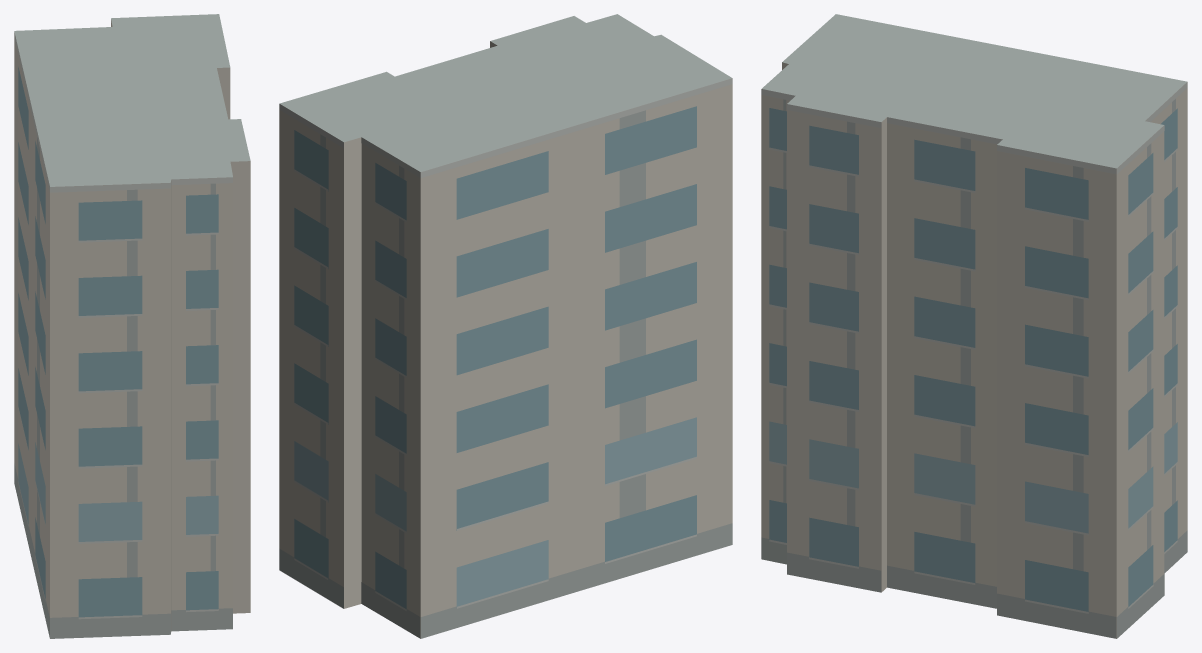
File: survey-upis-32475876.glb
3 views of the same model, side by side, from view 1: azimuth 30°, elevation 25°; view 2: azimuth 150°, elevation 25°; view 3: azimuth 270°, elevation 25° (orthographic). The views are drawn at different scales.
Visible parts, largest first — view 1: survey-upis-32475876.tmp; view 2: survey-upis-32475876.tmp; view 3: survey-upis-32475876.tmp.
Part boxes in pixels (bbox=[...]): survey-upis-32475876.tmp: bbox=[14, 14, 250, 638]; survey-upis-32475876.tmp: bbox=[279, 14, 732, 638]; survey-upis-32475876.tmp: bbox=[761, 14, 1187, 638].
Bounding box in the file's own units: 13.42 × 19.05 × 15.65.
